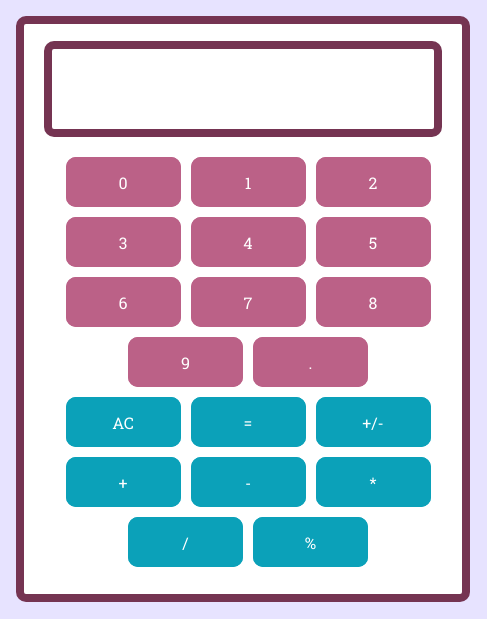
Test case: buttons match their digit in the output
Step 1. Click the button "1" → point(248, 182), box [190,157,306,207]
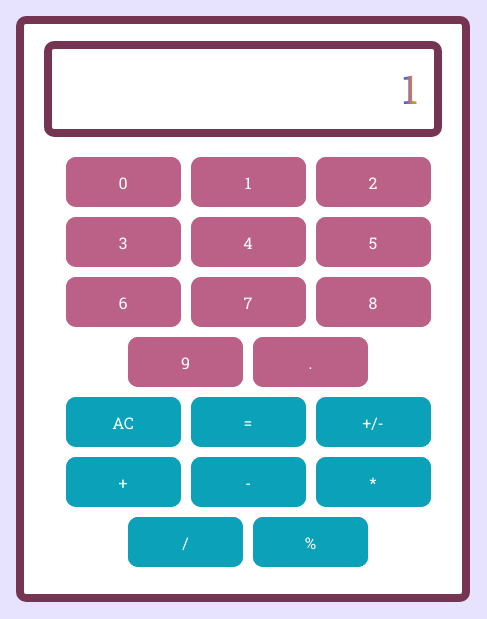
Check: the element showing "1" is shown, box [44,41,442,137]
